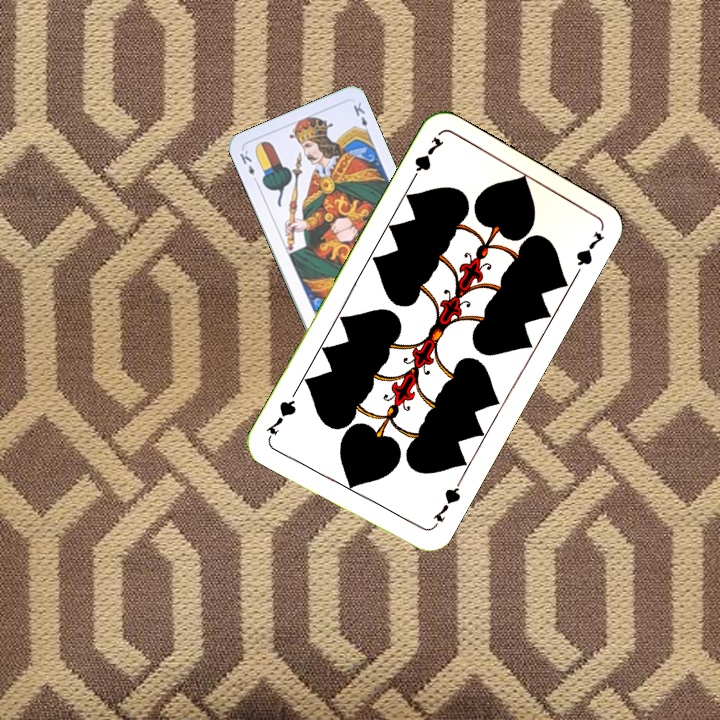EK: (236, 146, 261, 186)
G7: (406, 132, 447, 186), (428, 477, 464, 531)
